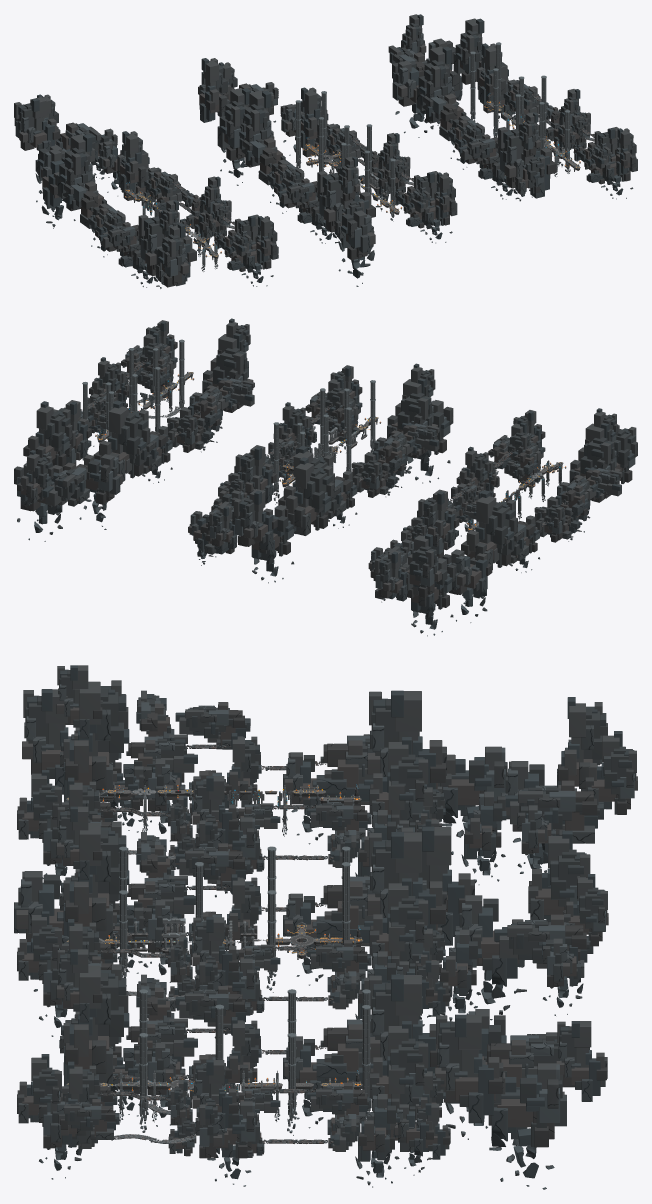
File: platformer_underworld.glb
The picture shows the model from 3 angles, top to bottom: view 1: azimuth 30°, elevation 25°; view 2: azimuth 150°, elevation 25°; view 3: azimuth 270°, elevation 25°; orthographic projection. The views are drawn at different scales.
Parts seen in each view (by area): view 1: ruins_001.027, ruins_001.092, ruins_002.025, ruins_001.045, ruins_001.089, ruins_001.082, ruins_001.022, ruins_001.068, ruins_001.083, ruins_001.072, ruins_002.005, ruins_001.041 (+47 smaller); view 2: ruins_001.082, ruins_001.068, ruins_001.022, ruins_001.084, ruins_001.089, ruins_002.026, ruins_001.072, ruins_001.027, ruins_001.045, ruins_002.005, ruins_001.092, ruins_002.031 (+45 smaller); view 3: ruins_002.027, ruins_001.084, ruins_001.027, ruins_001.072, ruins_001.045, ruins_001.068, ruins_001.041, ruins_001.022, ruins_001.091, ruins_002.026, ruins_001.089, ruins_001.083 (+89 smaller).
Part boxes in pixels (box(x1,y1,x2,y2)): ruins_001.027: box(498, 123, 556, 198); ruins_001.092: box(14, 97, 60, 150); ruins_002.025: box(338, 210, 375, 286); ruins_001.045: box(317, 167, 375, 232); ruins_001.089: box(198, 58, 229, 122); ruins_001.082: box(217, 88, 250, 160); ruins_001.022: box(416, 46, 456, 123); ruins_001.068: box(57, 134, 96, 211); ruins_001.083: box(156, 223, 189, 287); ruins_001.072: box(138, 210, 196, 286); ruins_002.005: box(392, 60, 433, 137); ruins_001.041: box(239, 90, 275, 167); ruins_001.082: box(284, 457, 334, 535); ruins_001.068: box(461, 490, 517, 569); ruins_001.022: box(93, 400, 150, 481); ruins_001.084: box(23, 401, 72, 466); ruins_001.089: box(232, 489, 277, 550); ruins_002.026: box(442, 549, 492, 622); ruins_001.072: box(569, 423, 620, 502); ruins_001.027: box(202, 334, 253, 412); ruins_001.045: box(387, 379, 437, 457); ruins_002.005: box(79, 454, 122, 529); ruins_001.092: box(402, 534, 441, 597); ruins_002.031: box(407, 558, 456, 636); ruins_002.027: box(488, 1063, 566, 1189); ruins_001.084: box(435, 1014, 503, 1123); ruins_001.027: box(64, 964, 129, 1086); ruins_001.072: box(64, 680, 129, 802); ruins_001.045: box(65, 821, 129, 940); ruins_001.068: box(367, 690, 446, 789); ruins_001.041: box(367, 832, 446, 930); ruins_001.022: box(369, 974, 438, 1073); ruins_001.091: box(505, 780, 603, 843); ruins_002.026: box(440, 746, 507, 861); ruins_001.089: box(528, 830, 590, 922); ruins_001.083: box(22, 689, 77, 794).
Bounding box in the file's own units: 1120 × 265 × 739.
Materials: 5 (5 with a texture image).
